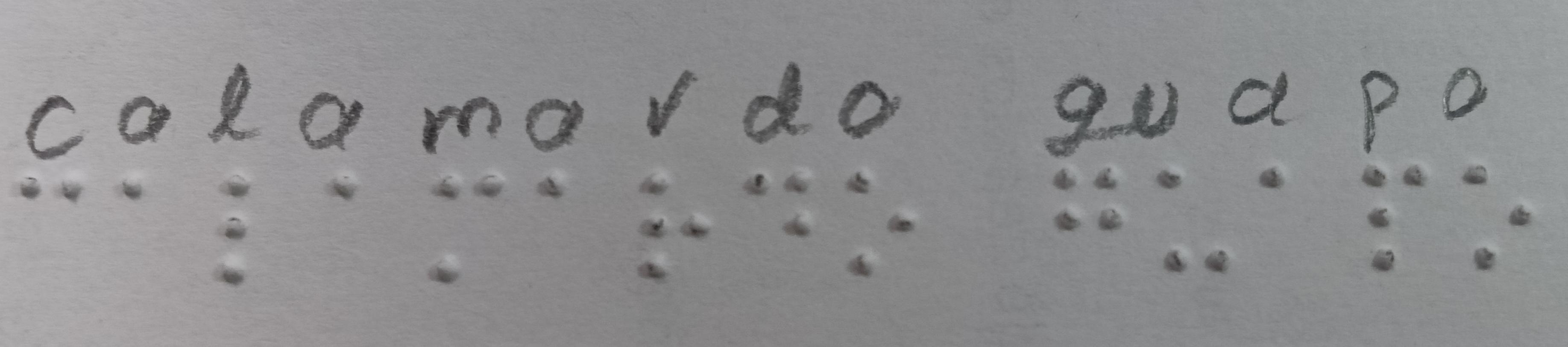a: (297, 162, 397, 217), (510, 160, 583, 215), (98, 158, 160, 222), (1247, 156, 1305, 207)
c: (19, 160, 100, 226)
d: (741, 149, 824, 249)
g: (1042, 164, 1136, 243)
l: (201, 162, 275, 305)
m: (421, 168, 513, 283)
o: (833, 153, 929, 292), (1446, 153, 1546, 286)
p: (1350, 158, 1433, 277)
r: (628, 158, 720, 303)
u: (1153, 162, 1245, 283)
